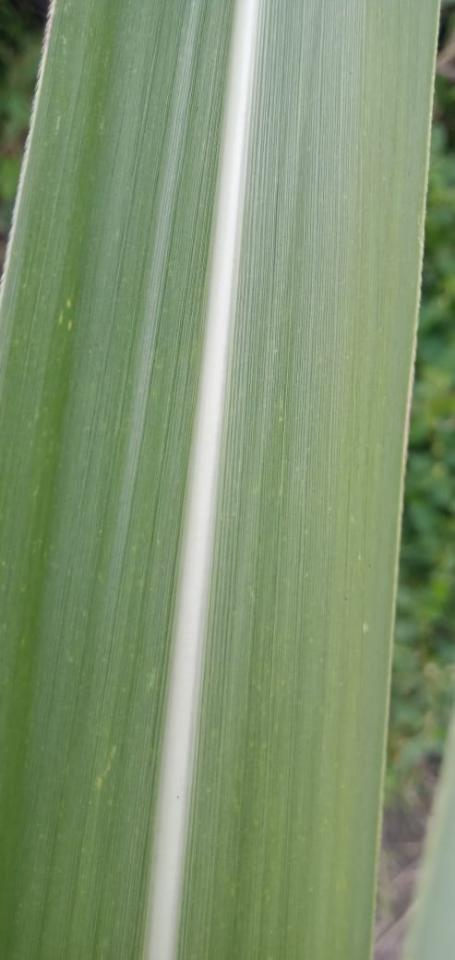Healthy: (0, 0, 438, 959)
